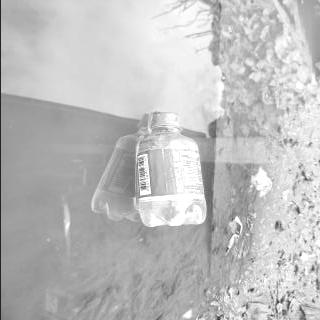bottle: (132, 110, 208, 229)
